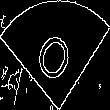O_SW: (31, 21, 79, 89)
